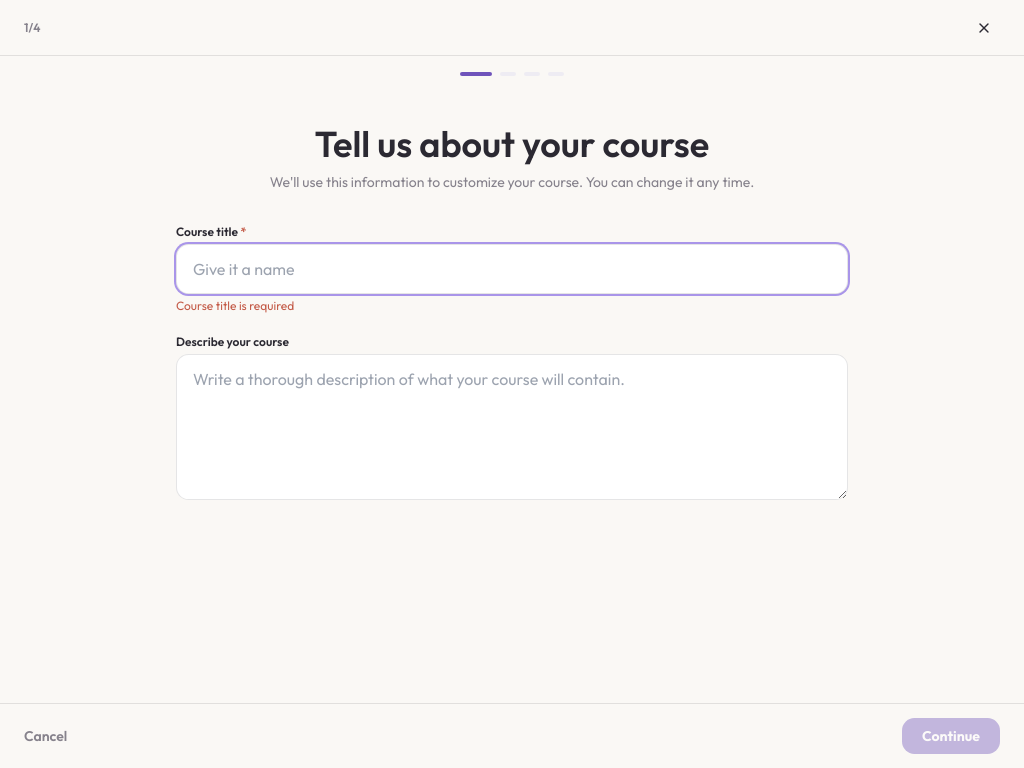
Scenario: T-18 wizard outline methods › K1 "Bulk upload" is not offered
Type "Copied course" into the field with placeholder "Give it a name".
click(512, 269); type("Copied course")  # box [176,244,848,294]
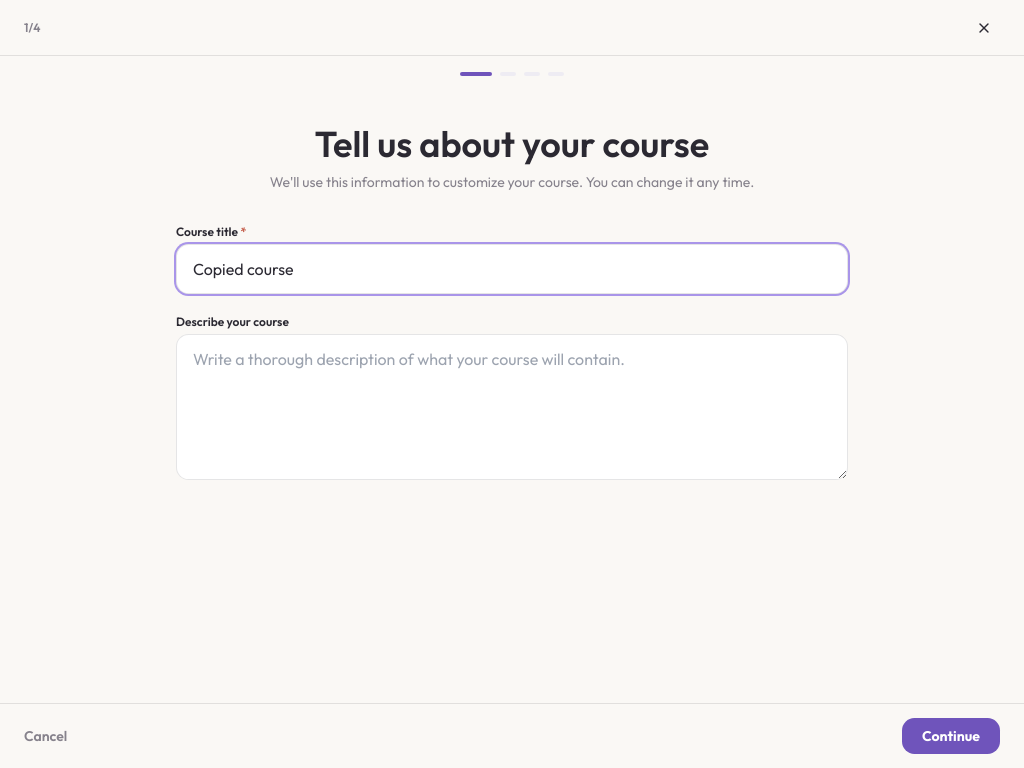
Click the button "Continue".
click(951, 736)  # box [902,718,1000,754]
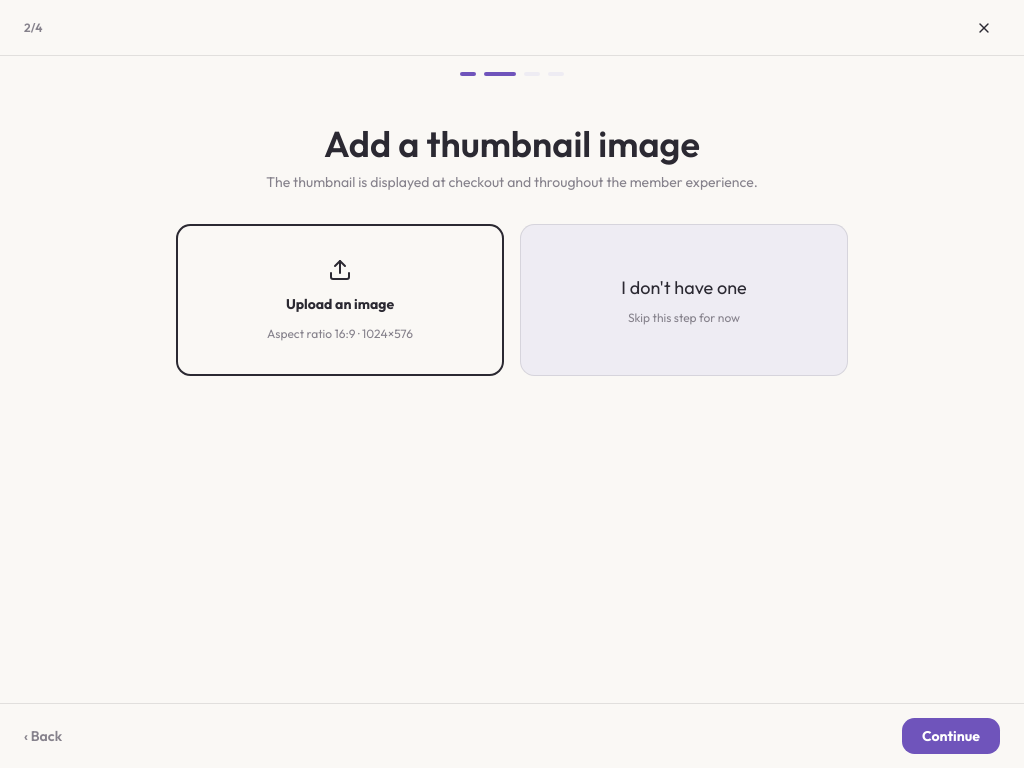
Click the button "Continue".
click(951, 736)  # box [902,718,1000,754]
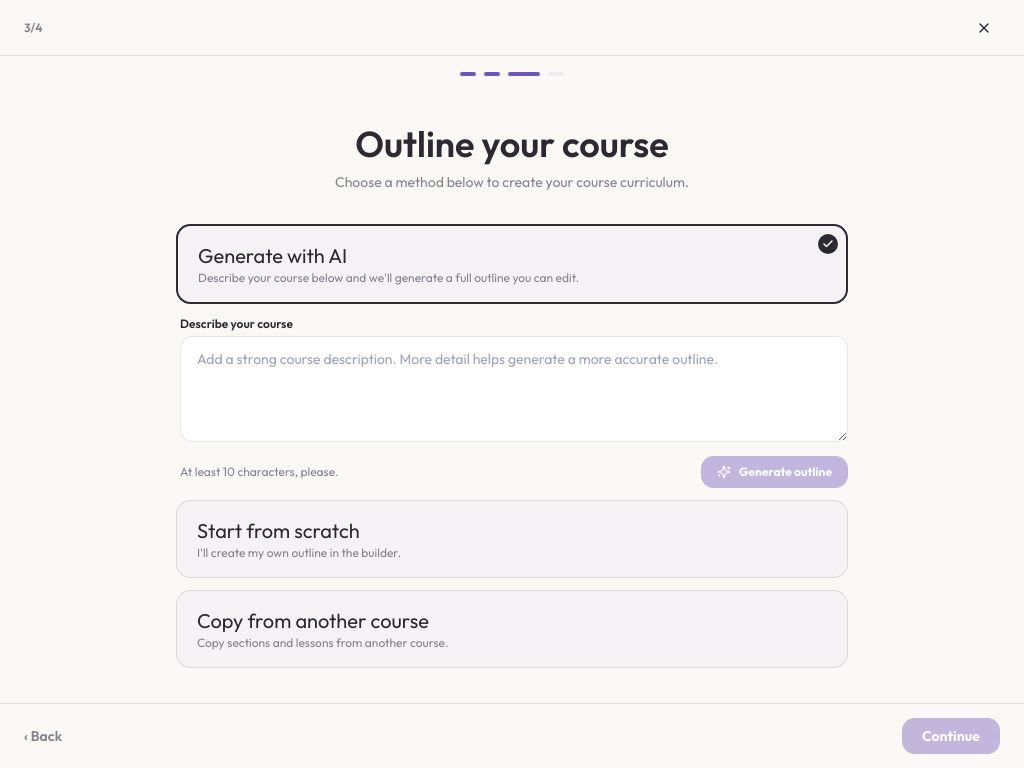
Result: the heading "Outline your course" is shown at [355,121,669,166]
